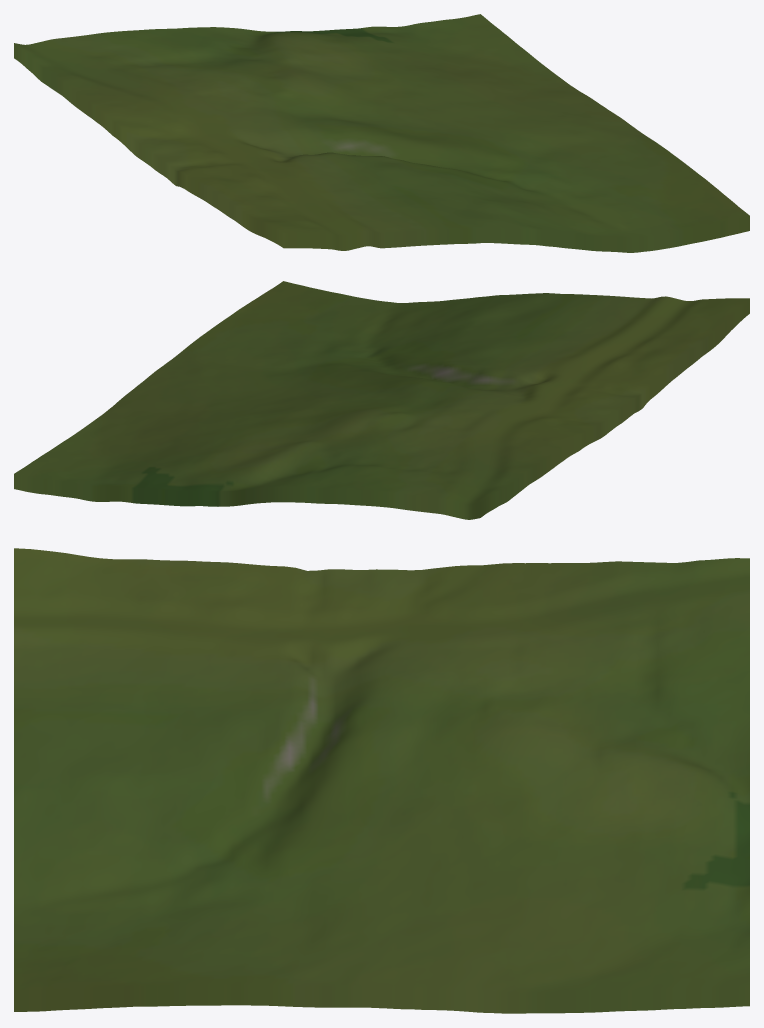
The model's file is terrain_8_-15.glb.
The picture shows the model from 3 angles, top to bottom: view 1: azimuth 30°, elevation 25°; view 2: azimuth 150°, elevation 25°; view 3: azimuth 270°, elevation 25°; orthographic projection. The views are drawn at different scales.
Visible parts, largest first — view 1: terrain_8_-15; view 2: terrain_8_-15; view 3: terrain_8_-15.
Boxes of the visible parts, box(x1,y1,x2,y2) form: terrain_8_-15: box(14, 14, 749, 252); terrain_8_-15: box(14, 281, 749, 519); terrain_8_-15: box(14, 548, 749, 1013).
Size of the model in its own units: 256 by 59.18 by 256.
